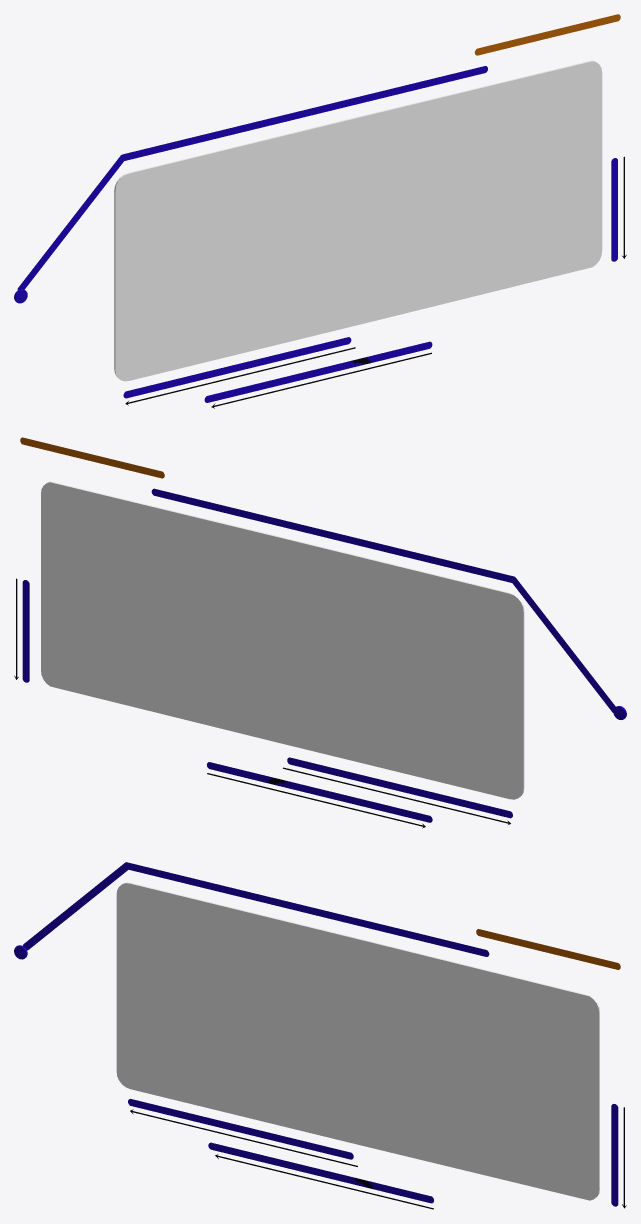
The model's file is Information_Nametag.fbx.
The picture shows the model from 3 angles, top to bottom: view 1: azimuth 30°, elevation 25°; view 2: azimuth 150°, elevation 25°; view 3: azimuth 330°, elevation 25°; orthographic projection.
Visible parts, largest first — view 1: node_id34, node_id9, node_id15, node_id17, node_id11, node_id21, node_id36, node_id13; view 2: node_id36, node_id9, node_id15, node_id17, node_id21, node_id11, node_id13, node_id34; view 3: node_id34, node_id9, node_id15, node_id17, node_id11, node_id21, node_id13, node_id36.
Boxes of the visible parts, x1=… form: node_id34: x1=114, y1=61, x2=602, y2=381; node_id9: x1=119, y1=66, x2=487, y2=161; node_id15: x1=123, y1=337, x2=351, y2=398; node_id17: x1=204, y1=341, x2=432, y2=402; node_id11: x1=474, y1=14, x2=620, y2=55; node_id21: x1=17, y1=155, x2=125, y2=289; node_id36: x1=114, y1=60, x2=594, y2=376; node_id13: x1=611, y1=158, x2=617, y2=261; node_id36: x1=41, y1=482, x2=523, y2=799; node_id9: x1=151, y1=488, x2=516, y2=583; node_id15: x1=287, y1=757, x2=512, y2=818; node_id17: x1=207, y1=762, x2=432, y2=822; node_id21: x1=511, y1=577, x2=617, y2=713; node_id11: x1=20, y1=437, x2=164, y2=478; node_id13: x1=22, y1=580, x2=29, y2=682; node_id34: x1=48, y1=481, x2=524, y2=795; node_id34: x1=116, y1=883, x2=599, y2=1200; node_id9: x1=124, y1=862, x2=489, y2=956; node_id15: x1=128, y1=1099, x2=353, y2=1159; node_id17: x1=208, y1=1142, x2=433, y2=1203; node_id11: x1=476, y1=929, x2=620, y2=969; node_id21: x1=23, y1=863, x2=129, y2=950; node_id13: x1=611, y1=1104, x2=618, y2=1206; node_id36: x1=124, y1=882, x2=599, y2=1195.
Bounding box in the file's own units: 0.512 × 0.2417 × 0.00494.
Materials: 15 (1 with a texture image).
